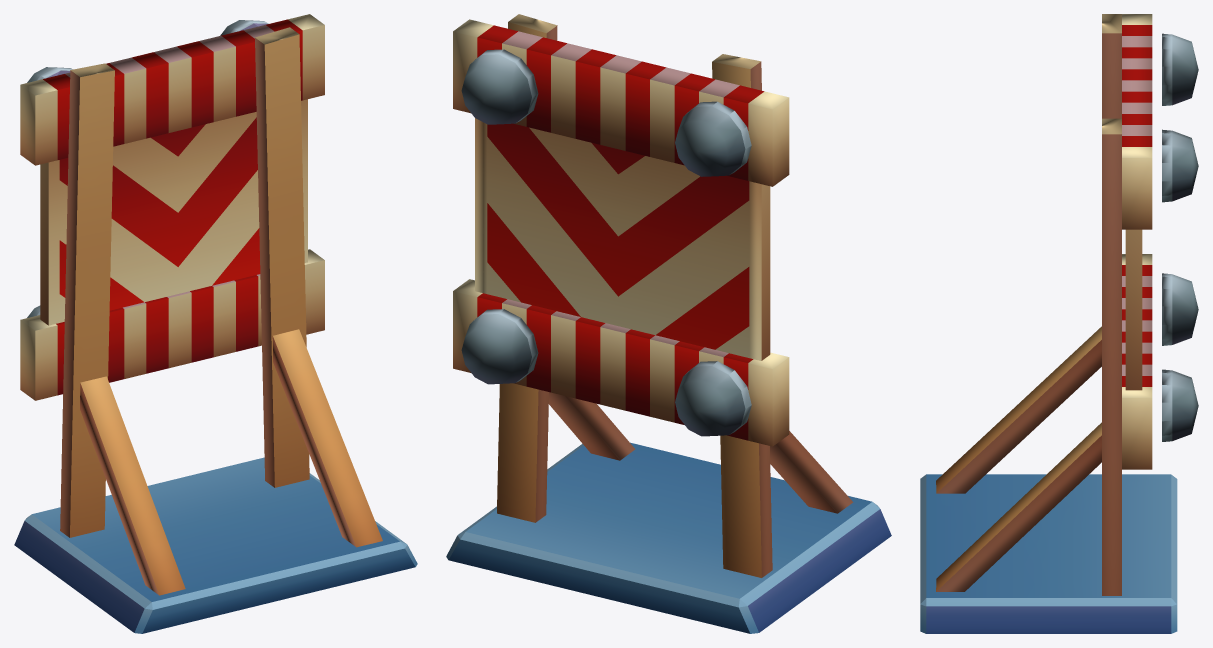
Rendered from 1.100_SanFrancisco_blocker_roll.glb.
The picture shows the model from 3 angles, left to right: view 1: azimuth 30°, elevation 25°; view 2: azimuth 150°, elevation 25°; view 3: azimuth 270°, elevation 25°; orthographic projection. The views are drawn at different scales.
Parts seen in each view (by area): view 1: 1.100_SanFrancisco_blocker_roll; view 2: 1.100_SanFrancisco_blocker_roll; view 3: 1.100_SanFrancisco_blocker_roll.
Part boxes in pixels (x1=…): 1.100_SanFrancisco_blocker_roll: x1=14, y1=14, x2=417, y2=633; 1.100_SanFrancisco_blocker_roll: x1=446, y1=14, x2=891, y2=633; 1.100_SanFrancisco_blocker_roll: x1=920, y1=14, x2=1198, y2=633.
Bounding box in the file's own units: 18.98 × 30.38 × 15.5.
2 materials, 2 textured.
